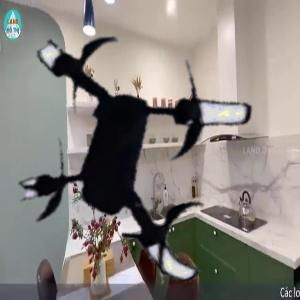drone: (2, 13, 284, 295)
